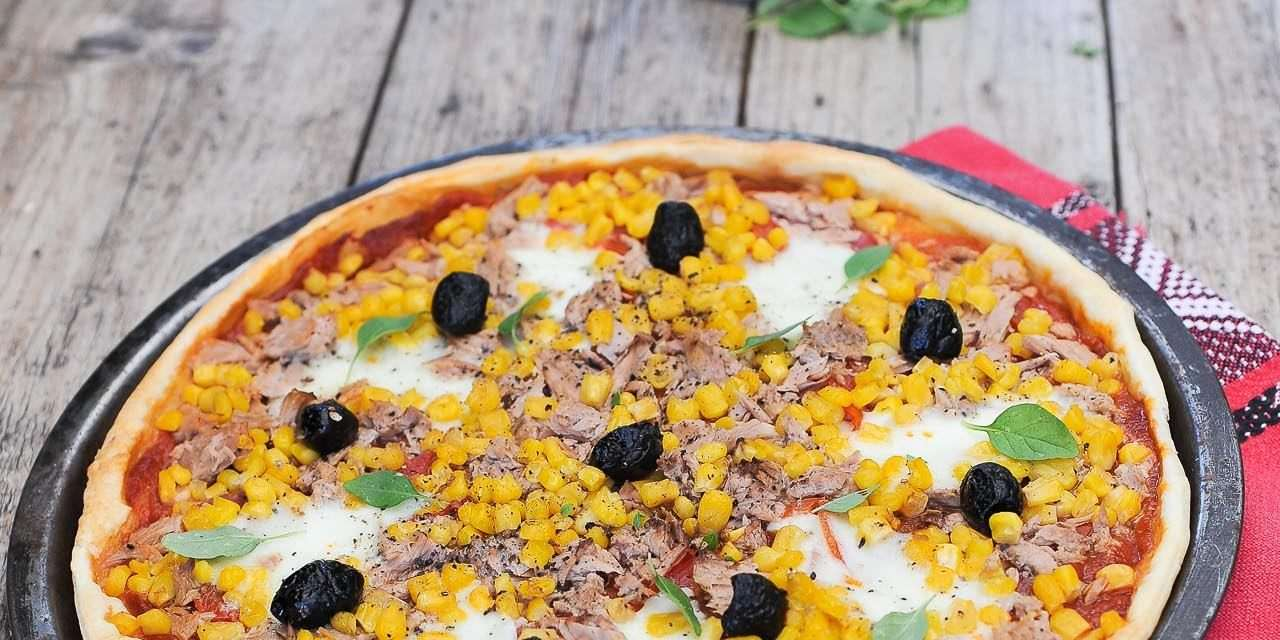olive: (272, 561, 365, 626), (900, 297, 963, 370), (648, 195, 703, 276), (718, 579, 786, 639), (590, 428, 668, 479), (961, 464, 1023, 527), (436, 274, 492, 333), (299, 402, 359, 452)
